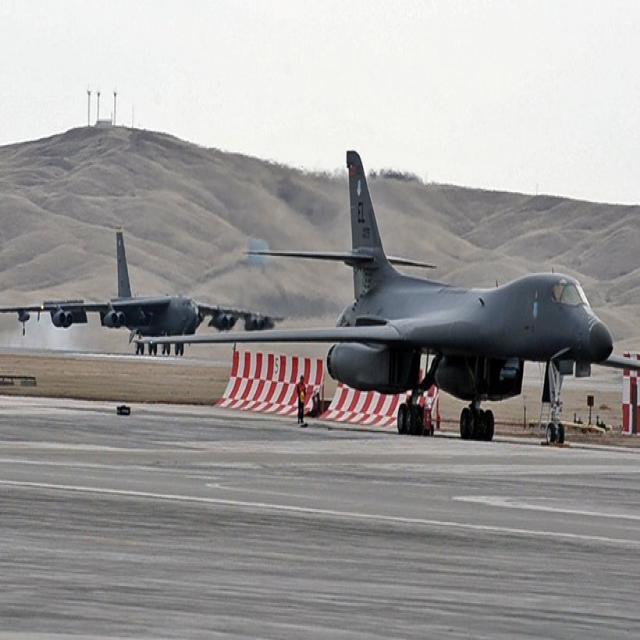MIL_Plane: (133, 148, 640, 445), (106, 31, 179, 164)
